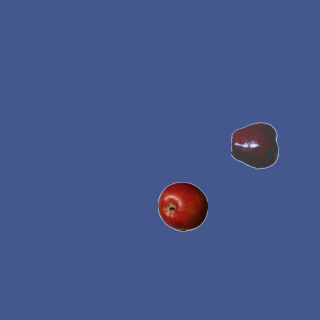Apple Braeburn: (157, 181, 207, 231)
Apple Red Delicious: (230, 120, 280, 170)
